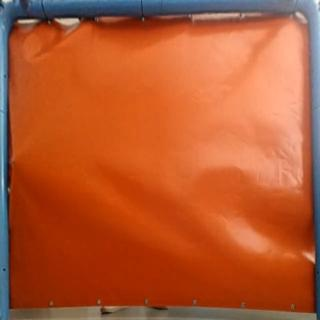Hit-hRxx: (8, 154, 20, 168)
